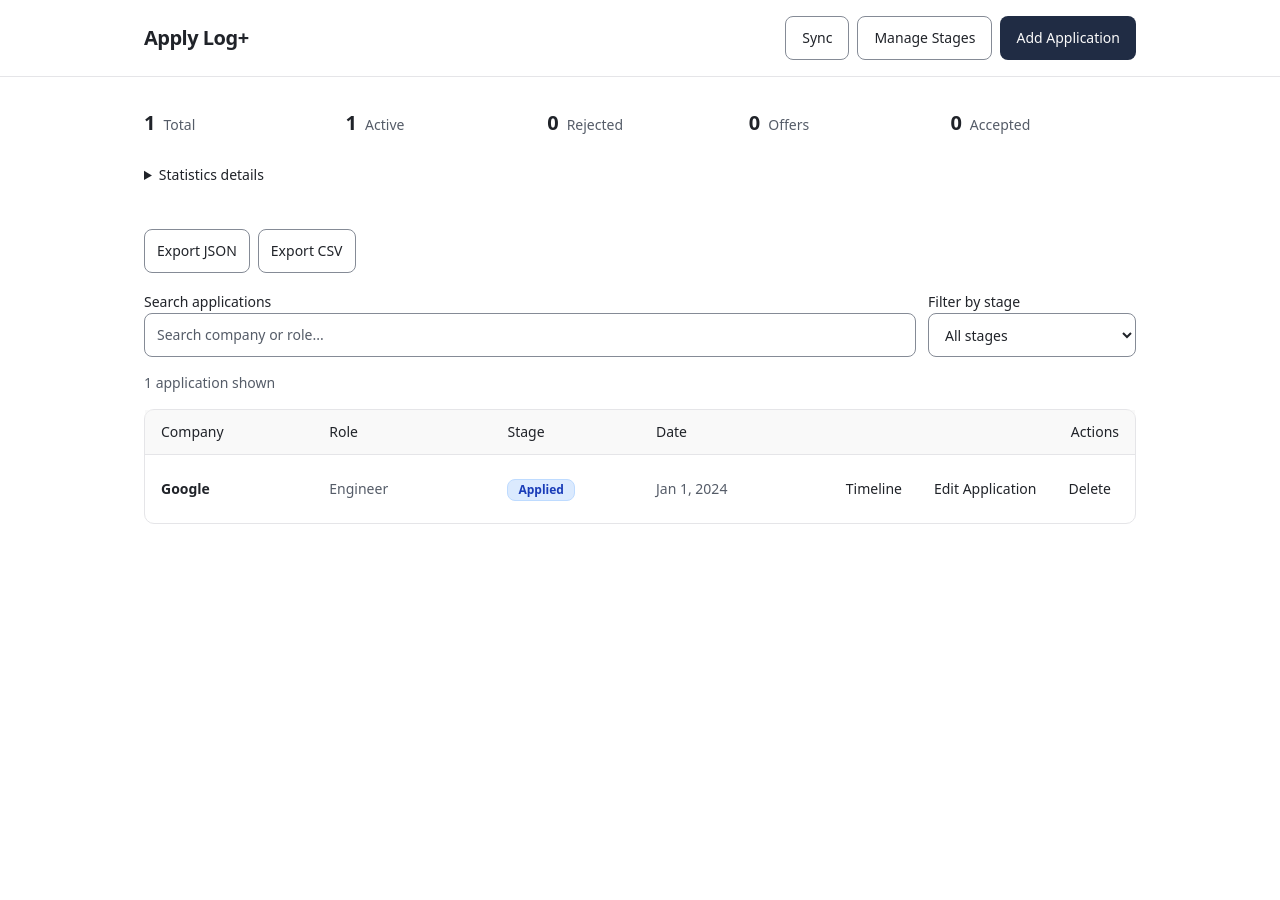
it: App › labels the custom-stage field and prevents empty stage submission
Click the button "Manage Stages".
click(925, 38)  # box [857, 16, 992, 60]
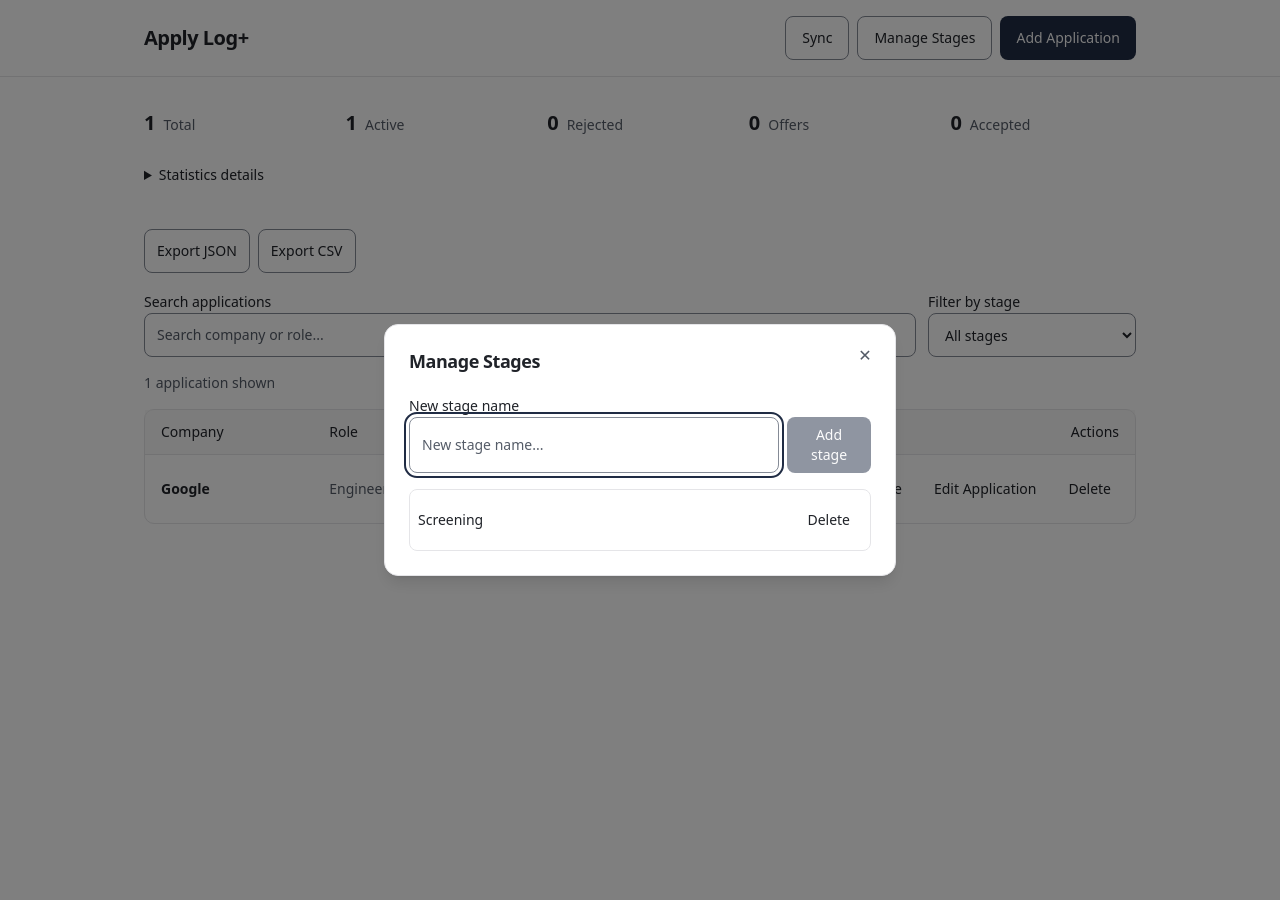
Result: the dialog "Manage Stages" is shown at [384, 324, 896, 576]
Result: the button "Add stage" is disabled at [787, 417, 871, 473]
Type "Review" into the field labelled "New stage name".
click(594, 445); type("Review")  # box [409, 417, 779, 473]
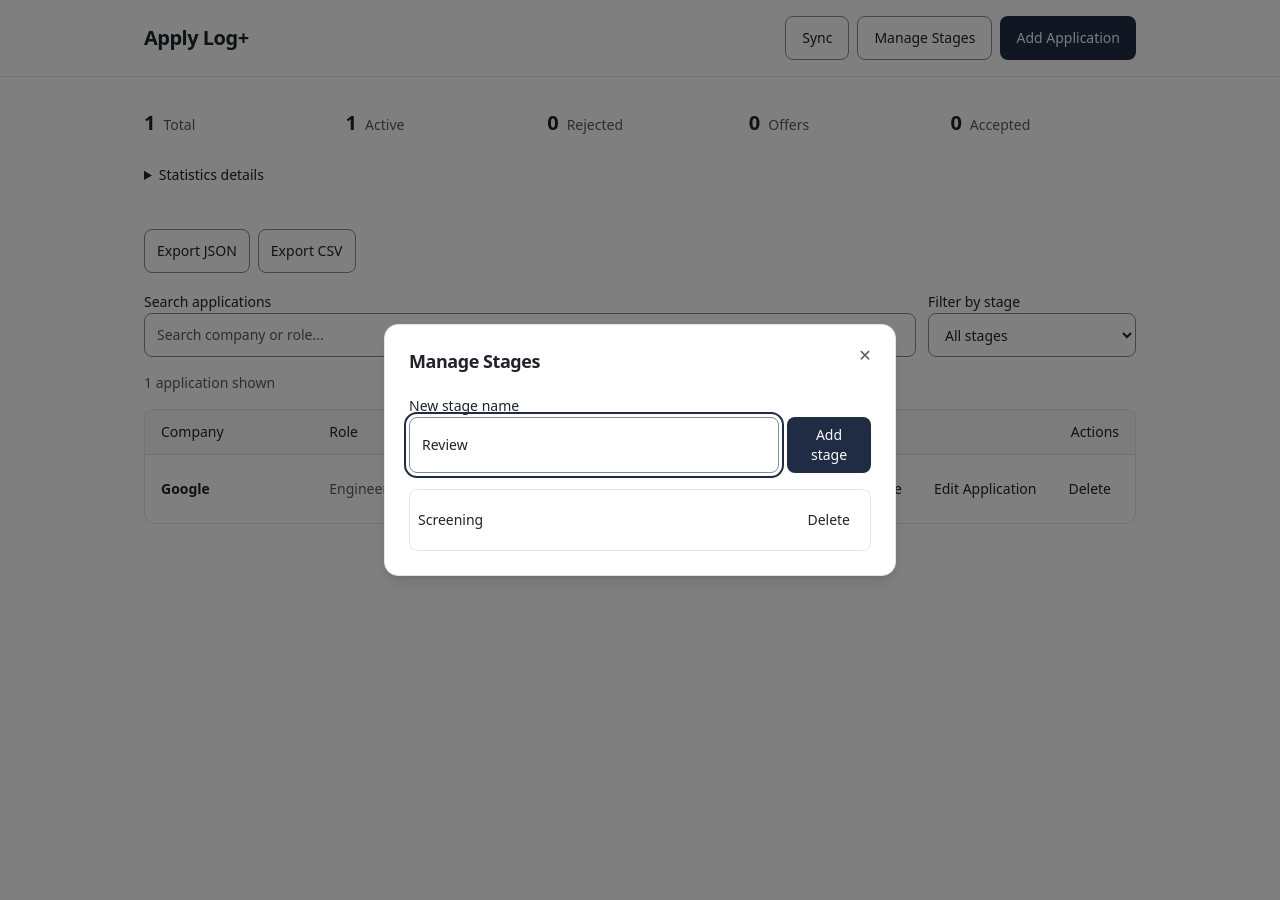
Result: the button "Add stage" is enabled at [787, 417, 871, 473]
